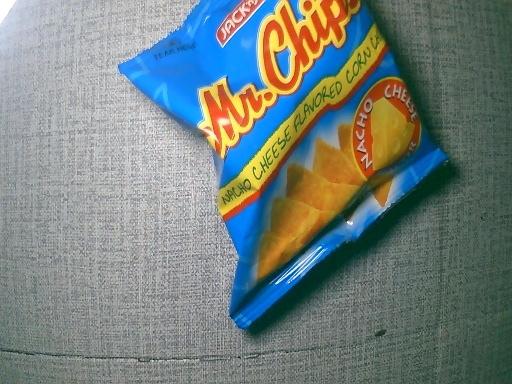plastic: (117, 1, 458, 338)
